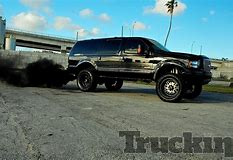smoke: (1, 55, 71, 87)
